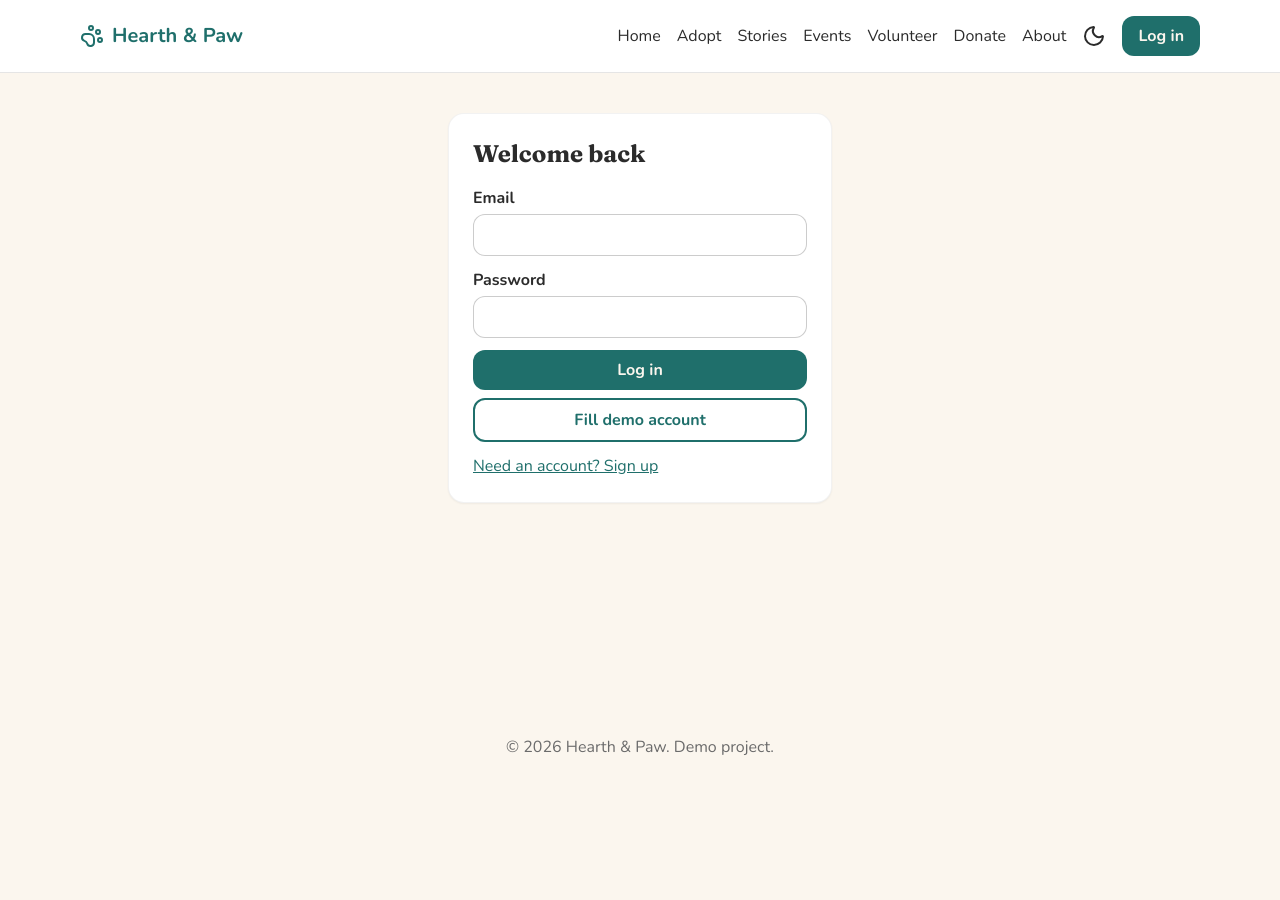
Test: login shows errors on empty form
Click the button "Log in" at (640, 370), box [473,350,807,390]
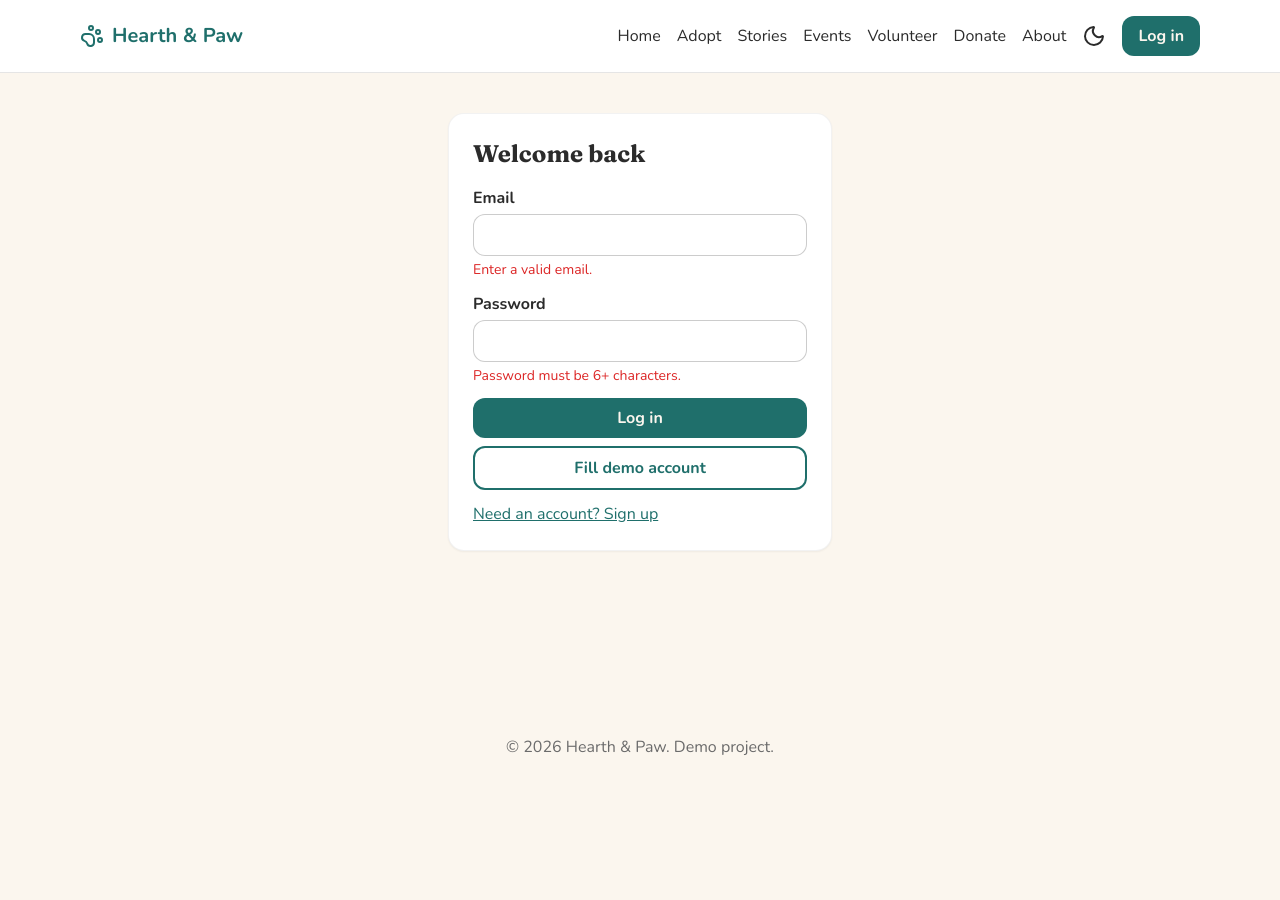
Expected: the message "Enter a valid email." is shown, [473,260,592,279]
